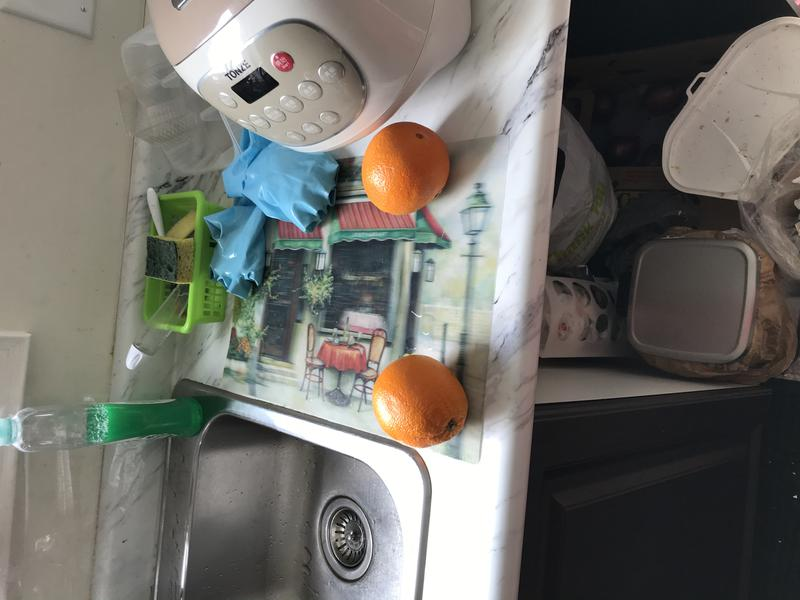orange: (366, 353, 474, 448), (360, 119, 456, 221)
